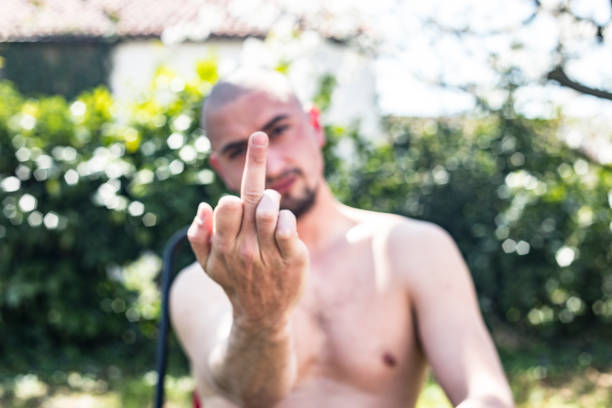insulting_gesture: (186, 132, 308, 313)
